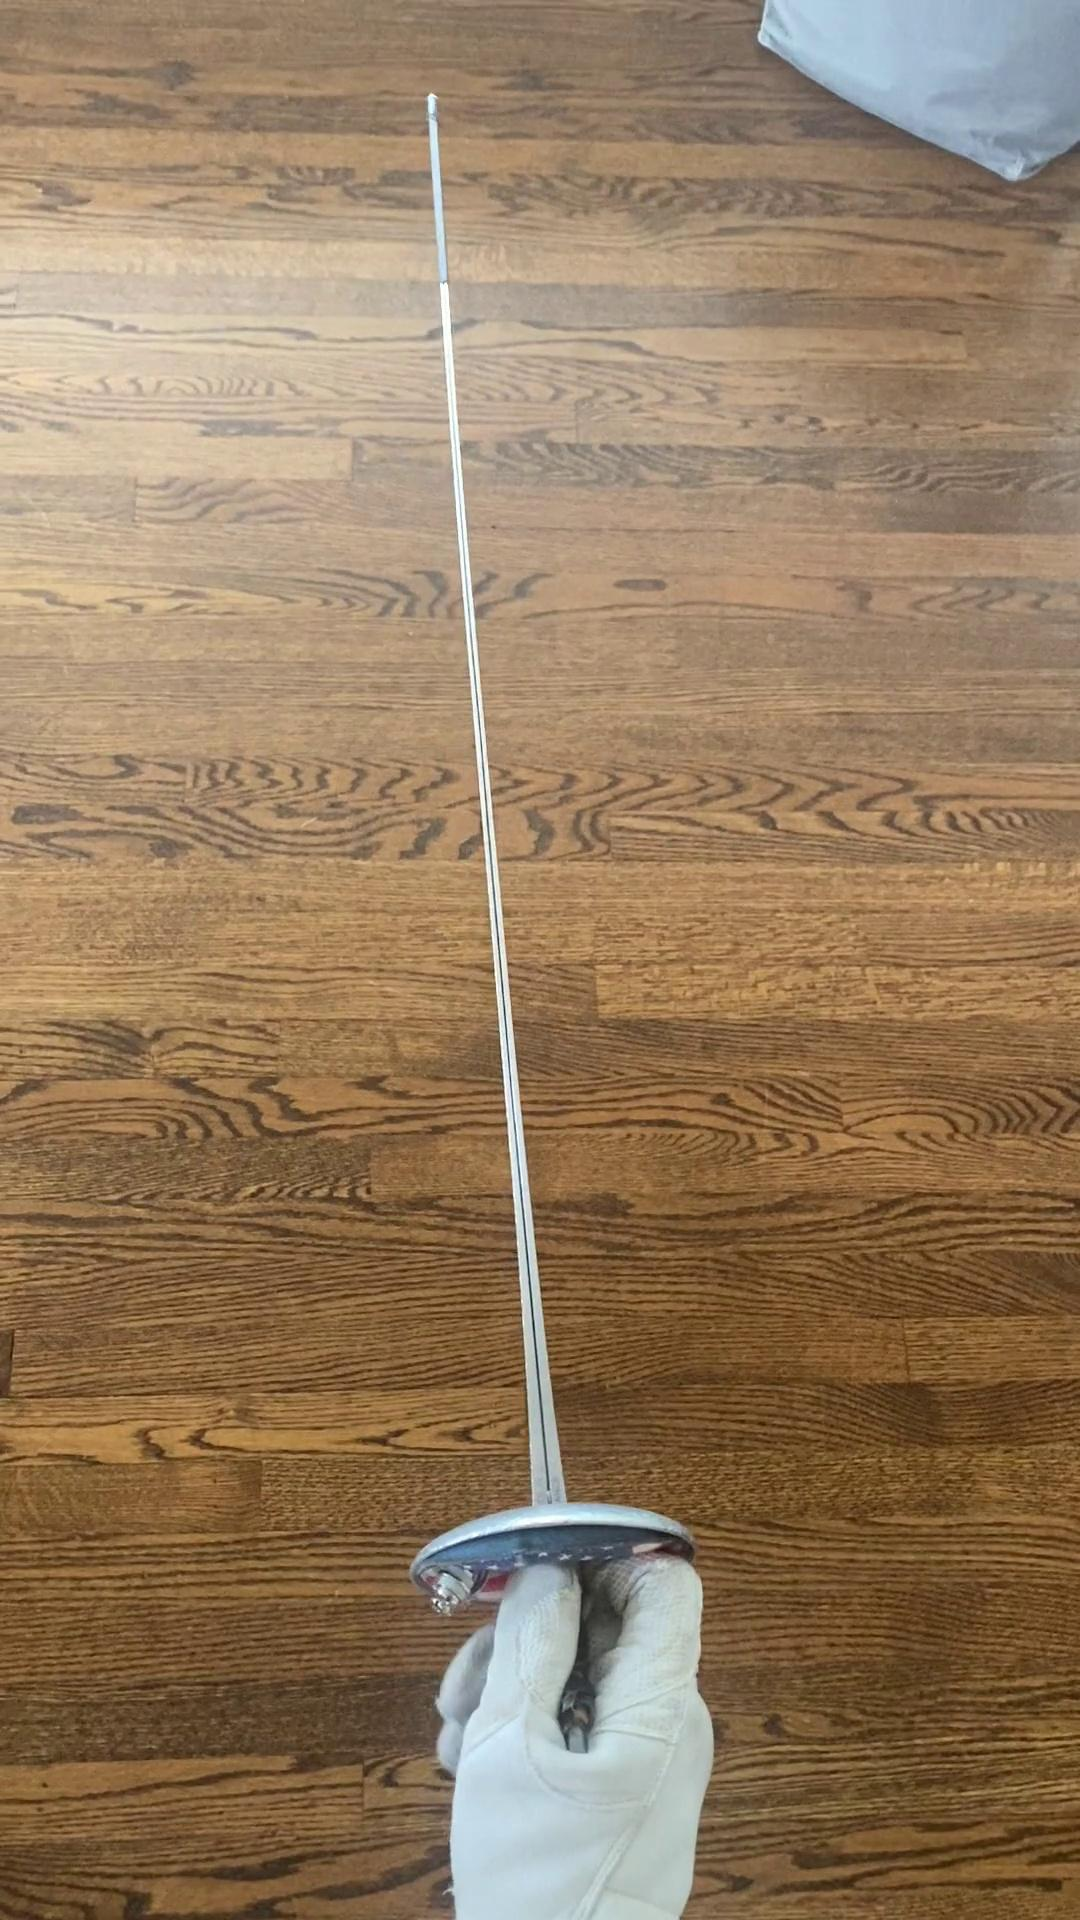blade-guard: (402, 1494, 702, 1631)
blade-tip: (419, 87, 463, 295)
fencing-blade: (396, 58, 702, 1833)
